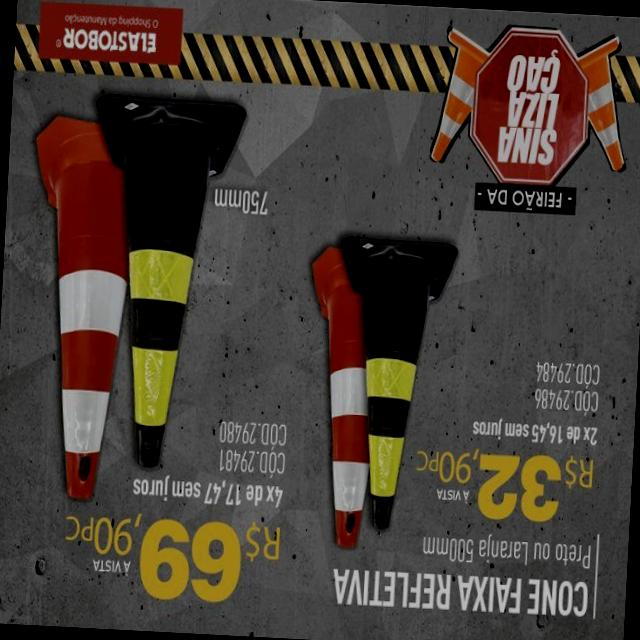cone: (72, 90, 238, 478), (22, 109, 139, 494), (296, 266, 386, 548)
